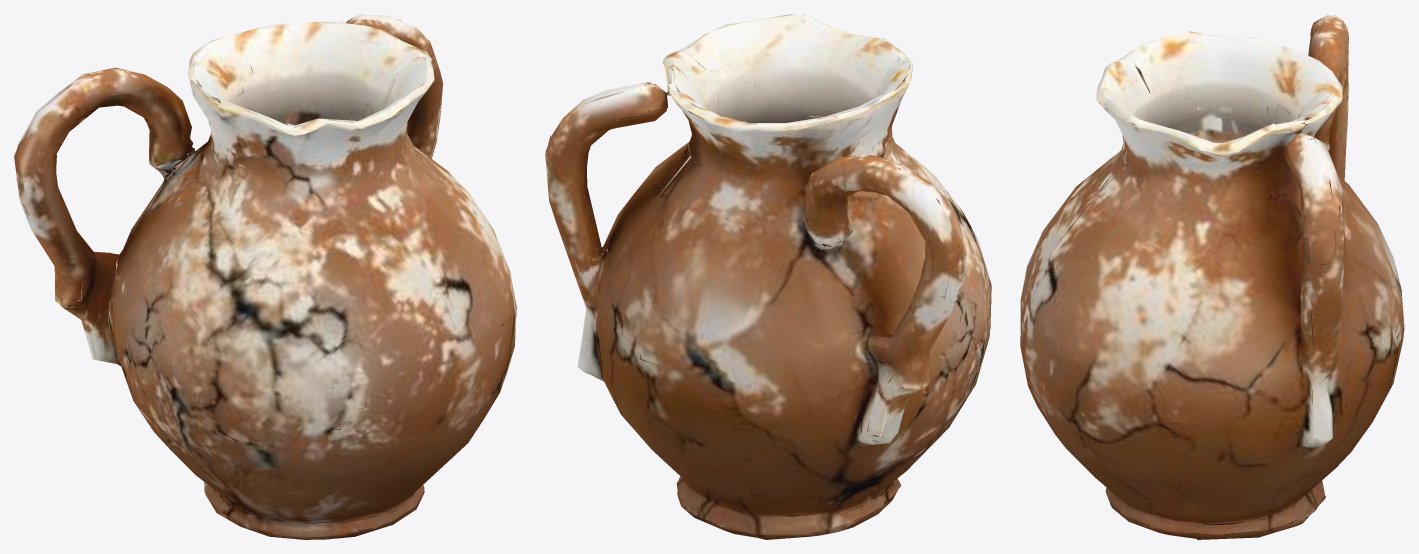
File: jar.glb
3 renders of one model, left to right at view 1: azimuth 30°, elevation 25°; view 2: azimuth 150°, elevation 25°; view 3: azimuth 270°, elevation 25°, orthographic. The views are drawn at different scales.
Visible parts, largest first — view 1: model; view 2: model; view 3: model.
Boxes of the visible parts, left/top/right/bottom form: model: left=14, top=14, right=516, bottom=539; model: left=545, top=14, right=991, bottom=539; model: left=1020, top=14, right=1404, bottom=539.
Bounding box in the file's own units: 1 × 0.9942 × 0.8201.
Materials: 1 (1 with a texture image).
